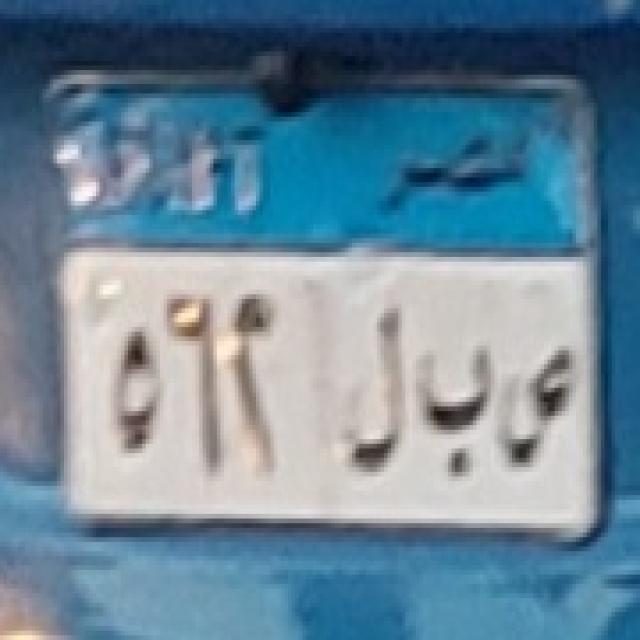2: (228, 284, 288, 482)
5: (105, 304, 169, 467)
6: (166, 284, 232, 478)
Laam: (340, 294, 410, 488)
Saad: (500, 318, 574, 490)
baa: (414, 314, 496, 500)
